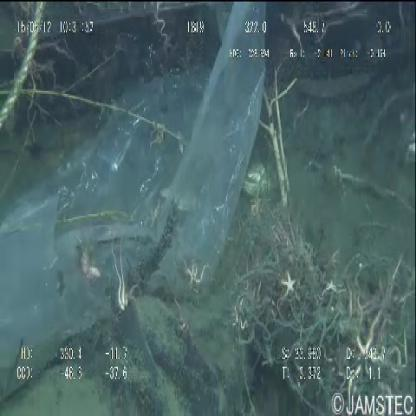Rác: (0, 0, 269, 409)
